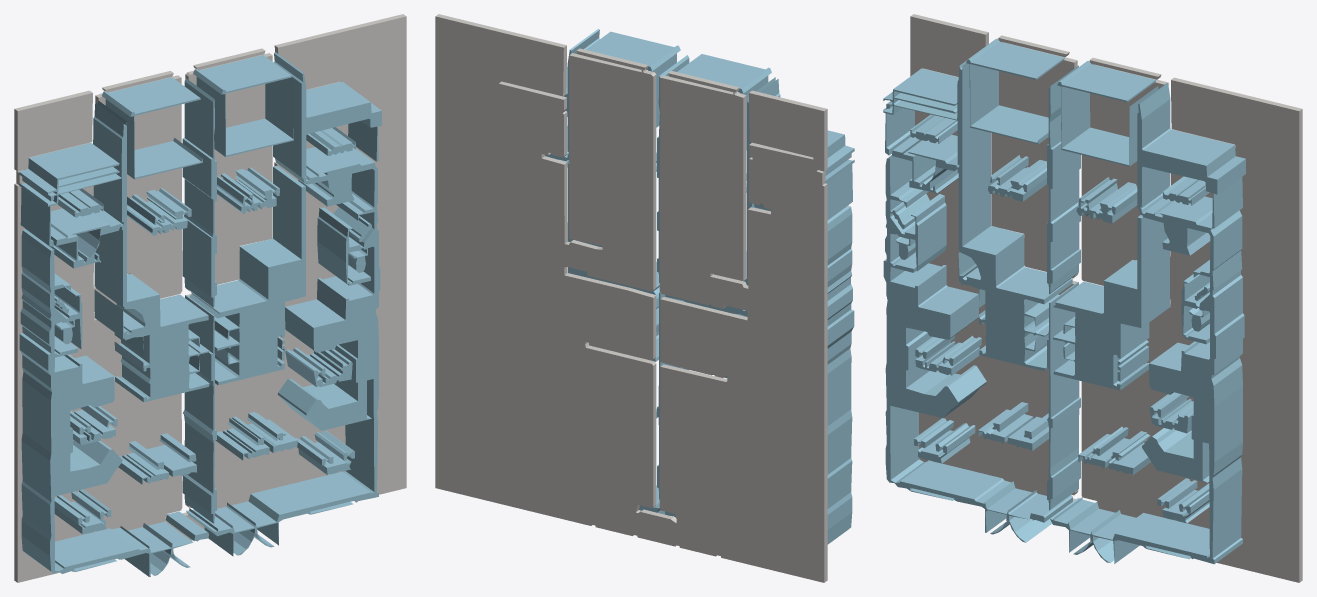
3 views of the same model, side by side, from view 1: azimuth 30°, elevation 25°; view 2: azimuth 150°, elevation 25°; view 3: azimuth 330°, elevation 25° (orthographic).
Parts seen in each view (by area): view 1: world; view 2: world; view 3: world.
Boxes of the visible parts, left/top/right/bottom form: world: left=14, top=14, right=406, bottom=582; world: left=435, top=14, right=854, bottom=582; world: left=883, top=14, right=1302, bottom=582.
Bounding box in the file's own units: 10.23 × 11.86 × 1.45.
